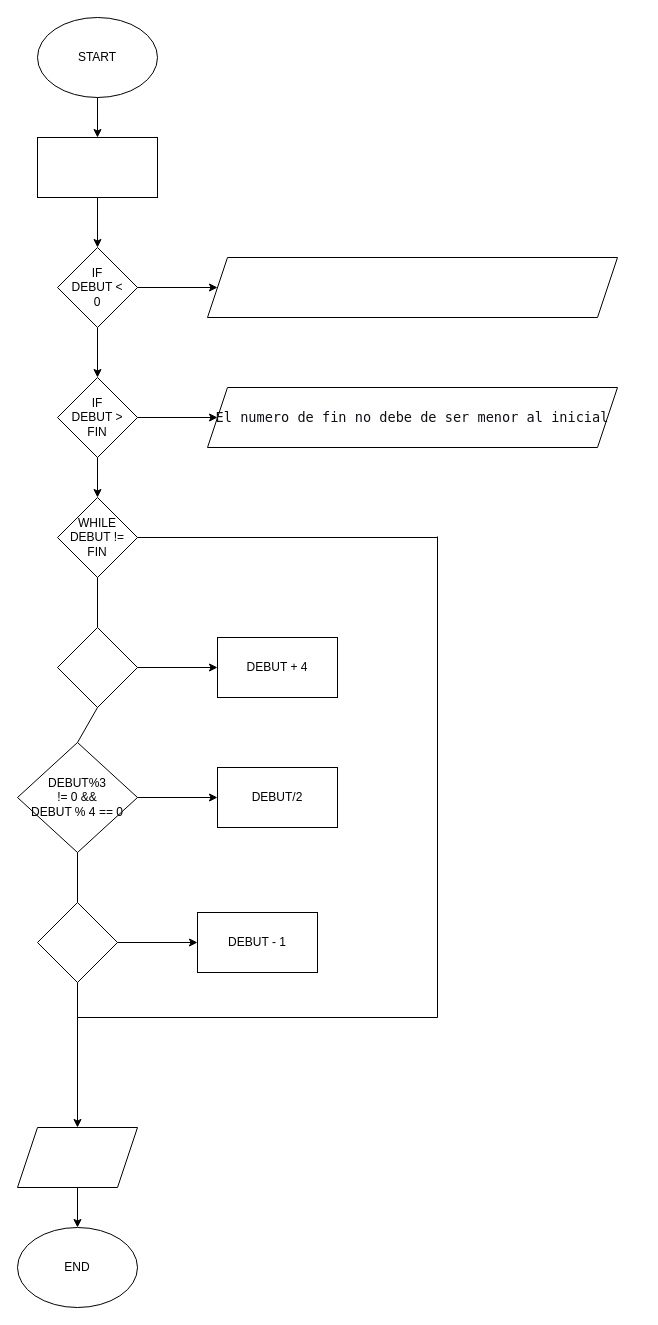
This 658x1325 diagram has some shape labels left out. The shapes that lost their labels are listed below. From the top down, each one's centre as x and y in pixels, then its label:
the point at 97,167: INT DEBUT INT FIN INT TOTAL
the point at 412,287: El numero debe de ser positivo y mayor a zero
the point at 97,667: DEBUT%3 == 0
the point at 77,942: ELSE
the point at 77,1157: COUT PROCESO DE CAMBIO
